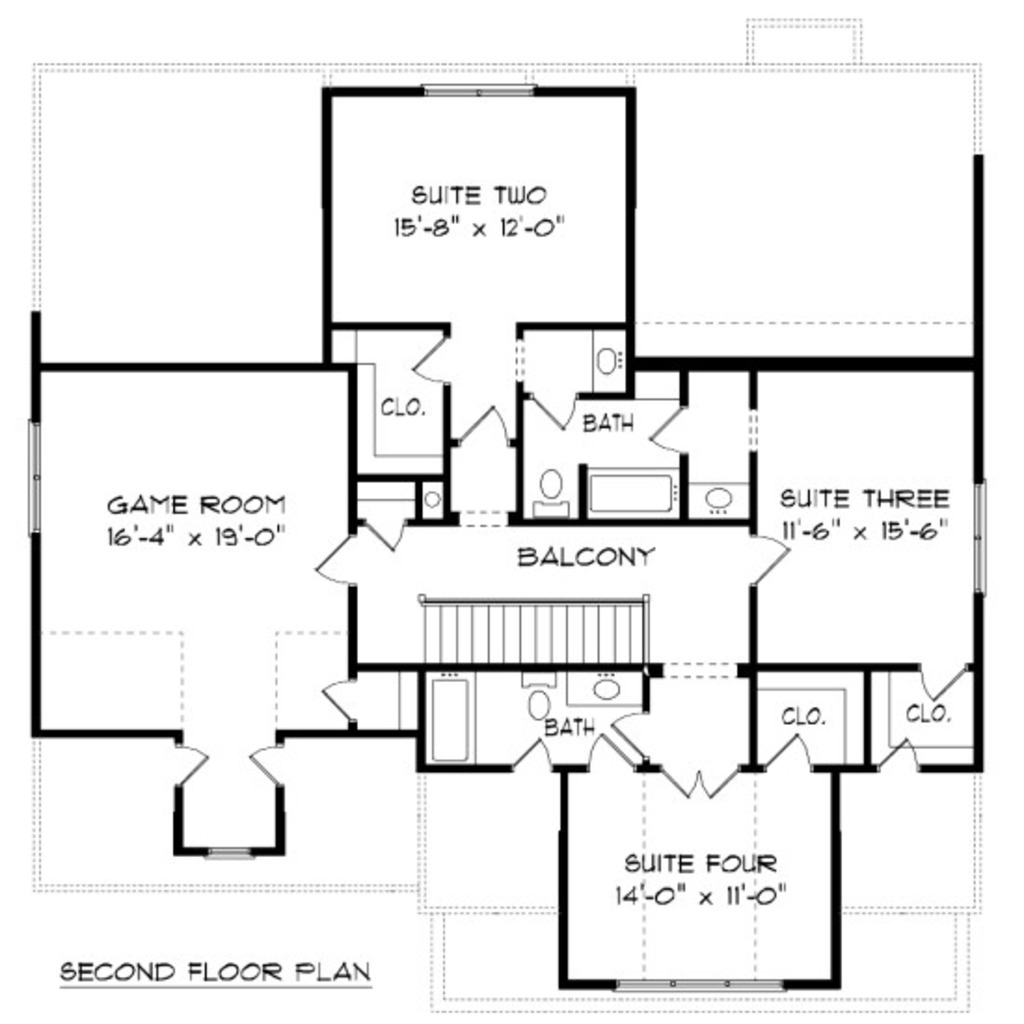door: (661, 763, 749, 811), (311, 532, 373, 587), (642, 401, 693, 462), (409, 333, 453, 393), (246, 744, 299, 792), (453, 406, 511, 449), (171, 738, 219, 787), (747, 533, 792, 584), (868, 735, 928, 773), (322, 676, 369, 724), (530, 397, 582, 439), (580, 735, 626, 779), (769, 733, 811, 779), (617, 712, 652, 765), (509, 738, 553, 778), (920, 668, 971, 701)
large_sink: (525, 458, 571, 520), (515, 673, 560, 732)
small_sink: (576, 327, 647, 406), (701, 478, 773, 524), (558, 666, 642, 705)
stairs: (412, 590, 661, 665)
tub: (579, 458, 680, 525), (423, 678, 479, 770)
window: (599, 960, 796, 998), (412, 73, 544, 106), (966, 479, 996, 597), (25, 422, 52, 535), (203, 844, 266, 865)
